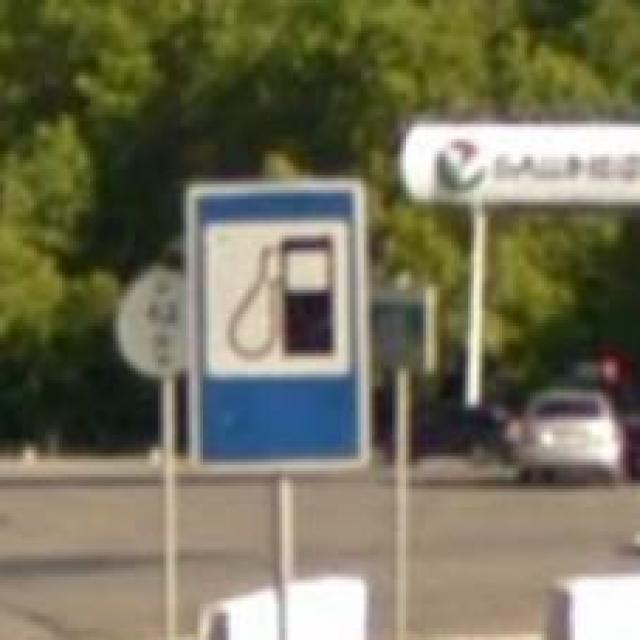traffic_sign: (186, 178, 372, 468)
